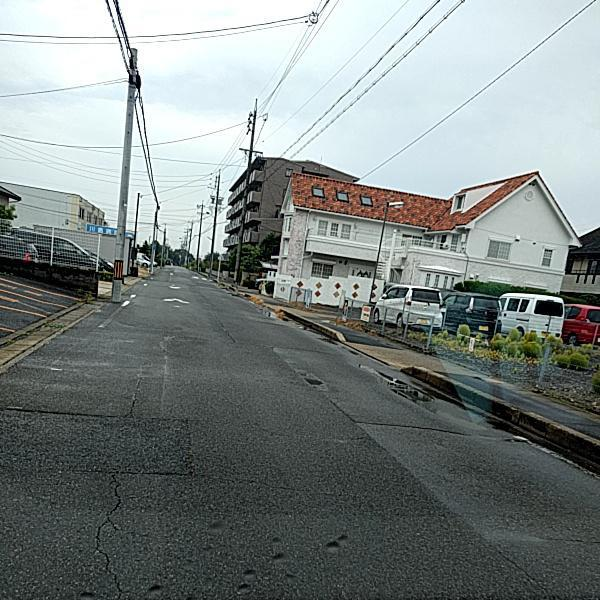D00: (84, 472, 136, 599)
D10: (346, 411, 511, 445)
